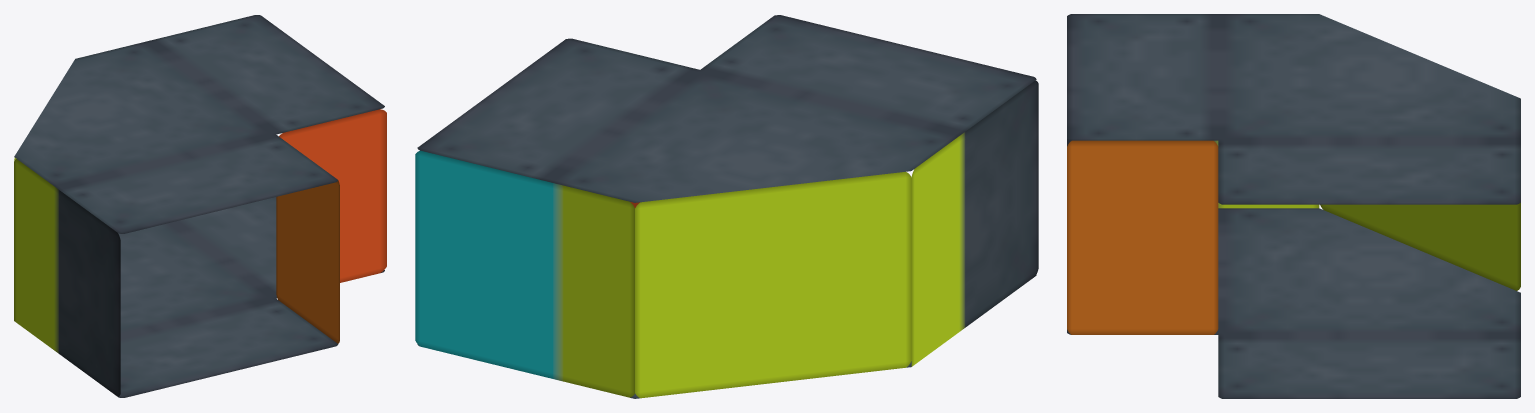
File: L-joint.fbx
3 views of the same model, side by side, from view 1: azimuth 30°, elevation 25°; view 2: azimuth 150°, elevation 25°; view 3: azimuth 270°, elevation 25° (orthographic). The views are drawn at different scales.
Parts seen in each view (by area): view 1: L-joint; view 2: L-joint; view 3: L-joint.
Part boxes in pixels (<box>): L-joint: <box>14,15,386,397</box>; L-joint: <box>415,15,1038,398</box>; L-joint: <box>1067,14,1520,398</box>.
Size of the model in its own units: 27.97 by 13.28 by 28.12.
Materials: 1 (1 with a texture image).
